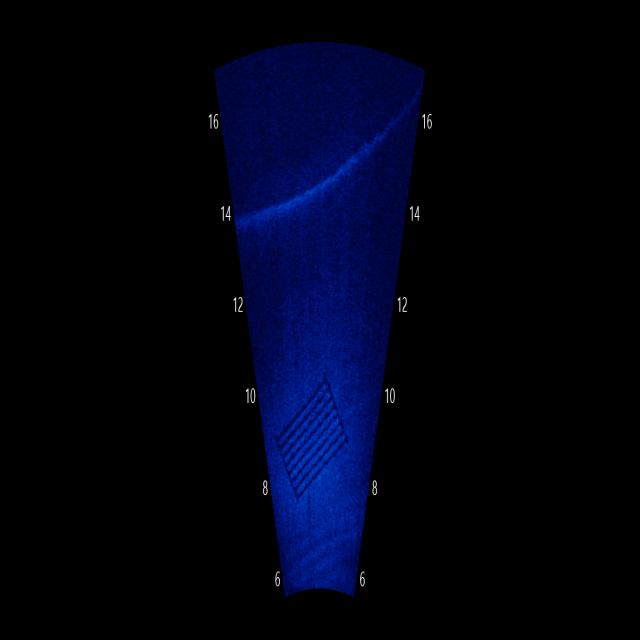square: (280, 364, 350, 514)
